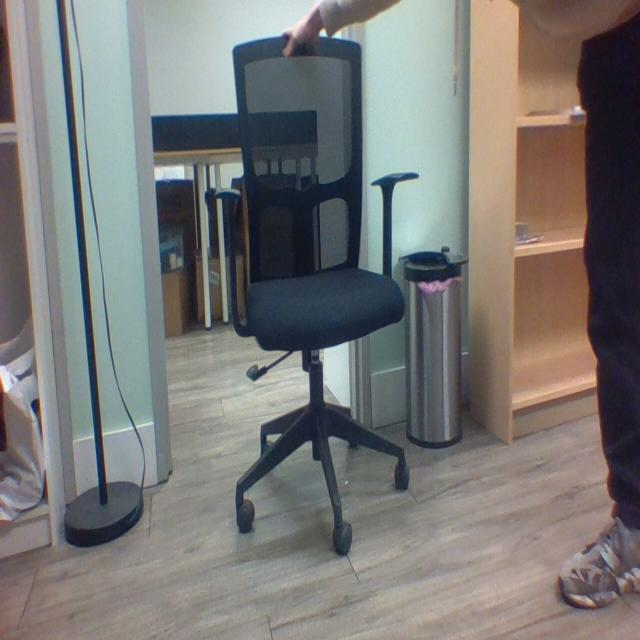black-chair: (222, 33, 402, 582)
